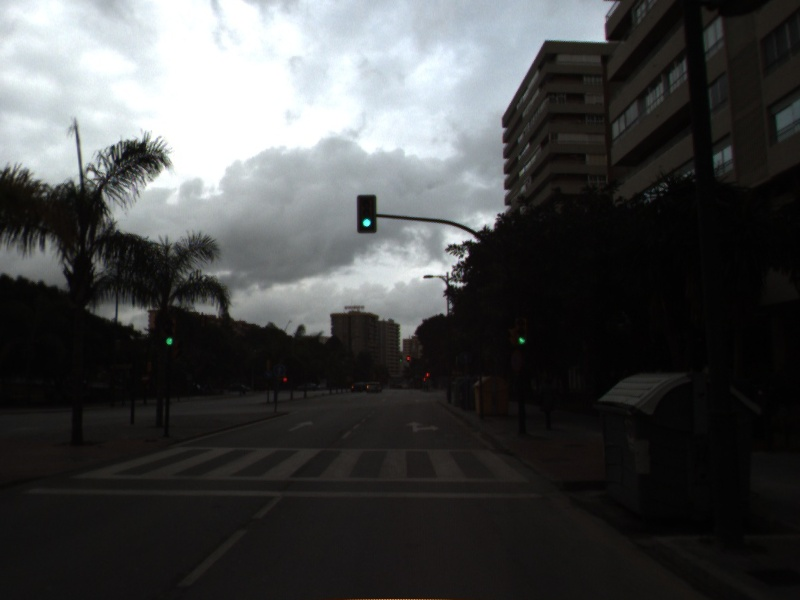STRAIGHT: (285, 419, 316, 434)
STRAIGHT_RIGHT: (402, 418, 442, 434)
